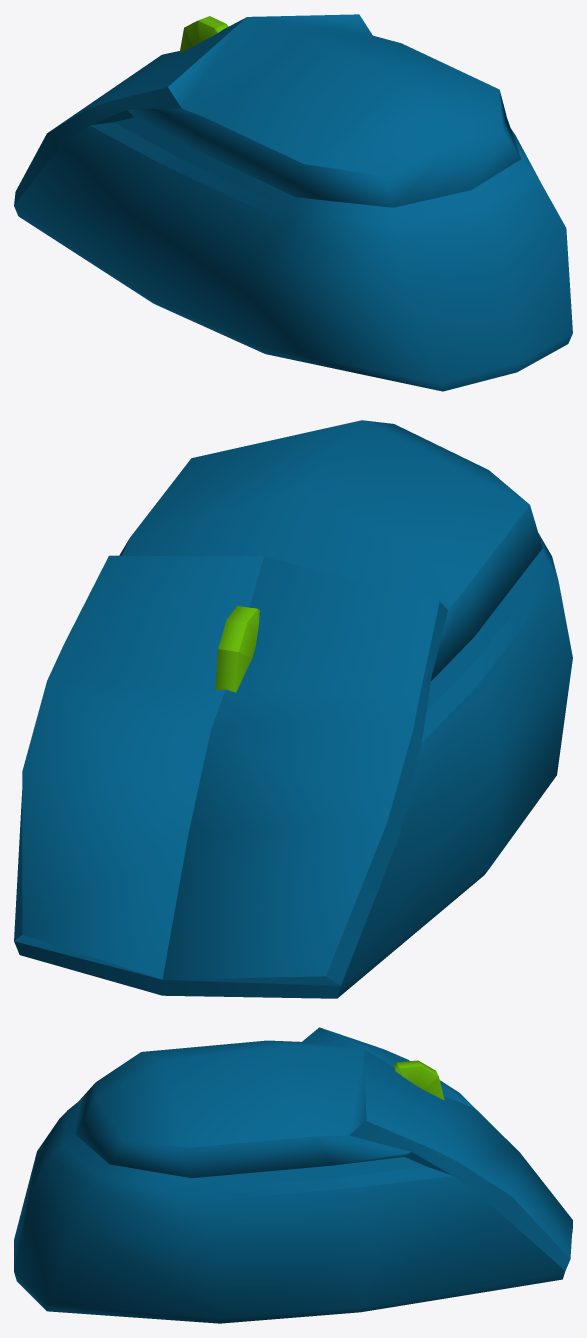
The model's file is NewMouse.fbx.
3 views of the same model, one above another, from view 1: azimuth 30°, elevation 25°; view 2: azimuth 150°, elevation 25°; view 3: azimuth 270°, elevation 25° (orthographic). The views are drawn at different scales.
Visible parts, largest first — view 1: Mouse; view 2: Mouse; view 3: Mouse.
Part boxes in pixels (x1=…): Mouse: x1=14, y1=14, x2=572, y2=391; Mouse: x1=14, y1=420, x2=572, y2=998; Mouse: x1=14, y1=1027, x2=572, y2=1323.
Bounding box in the file's own units: 188 × 139 × 312.
